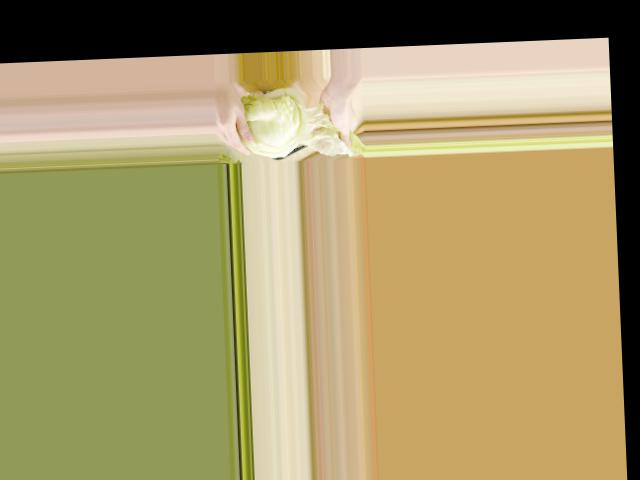lettuce: (234, 82, 323, 161)
